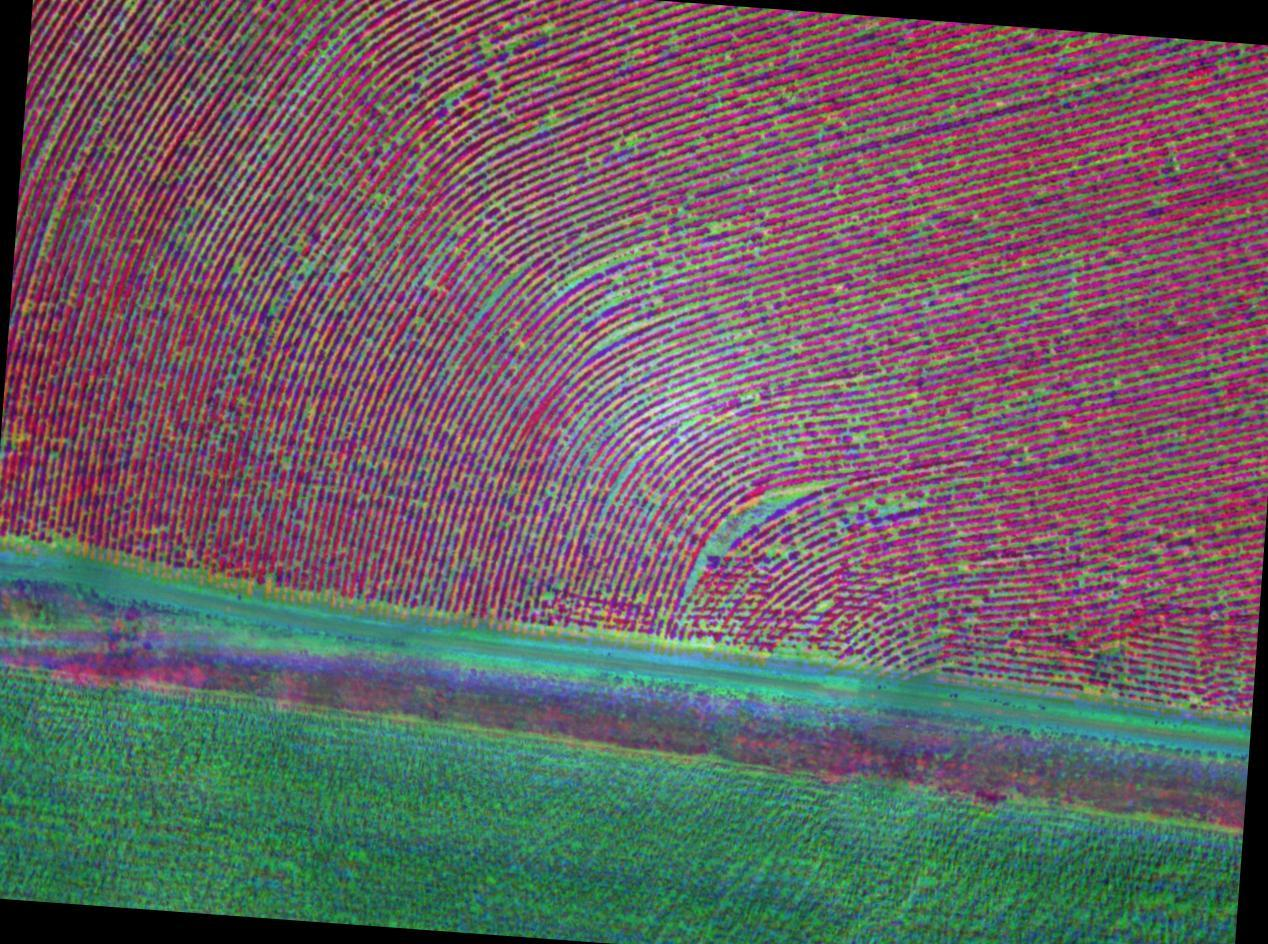dc: (556, 230, 692, 367), (683, 483, 814, 608), (456, 25, 568, 154), (191, 193, 312, 281), (251, 28, 376, 89)
